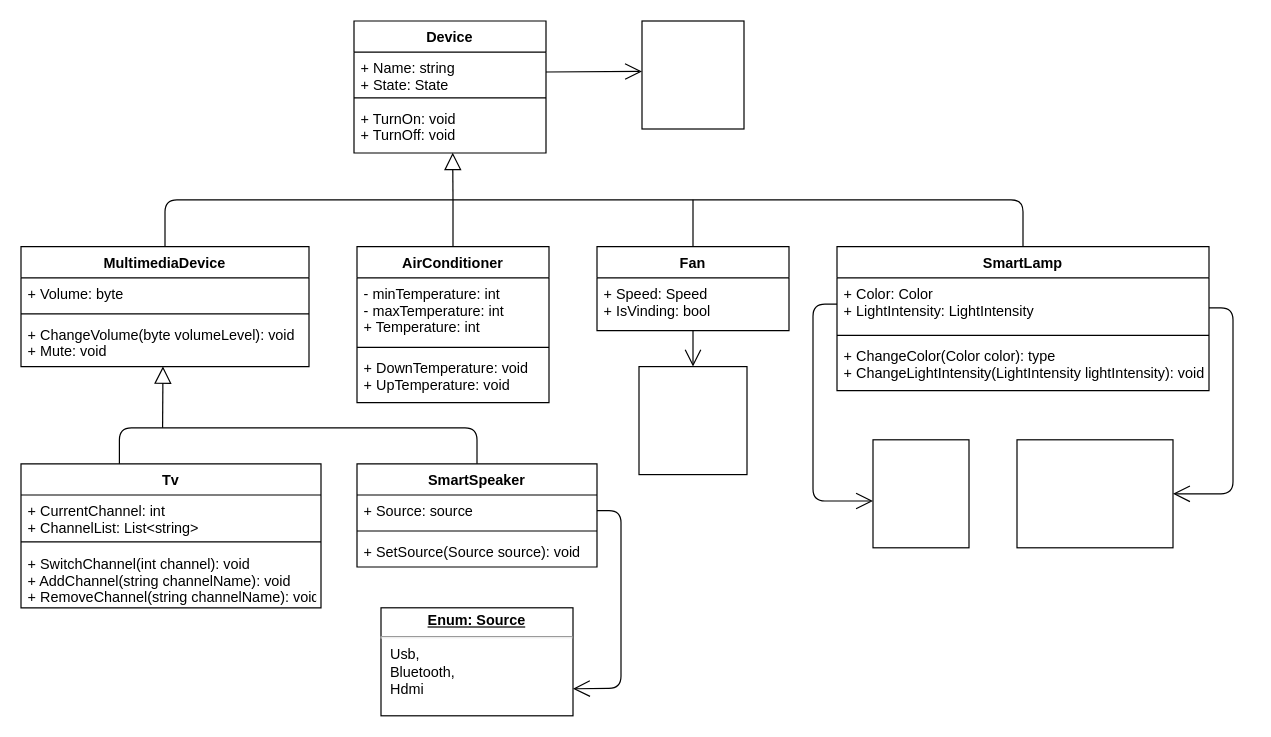
Some shapes in this 1271 by 737 pixel diagram are drawn without their labels. Each missing label, with the centre of its shape:
Enum: Color White, Green, Blue, Red: (x=920, y=493)
Enum: LightIntensity High, Medium, Low: (x=1094, y=493)
Enum: Speed High, Medium, Low: (x=692, y=420)
Enum: State On Off: (x=692, y=74)
